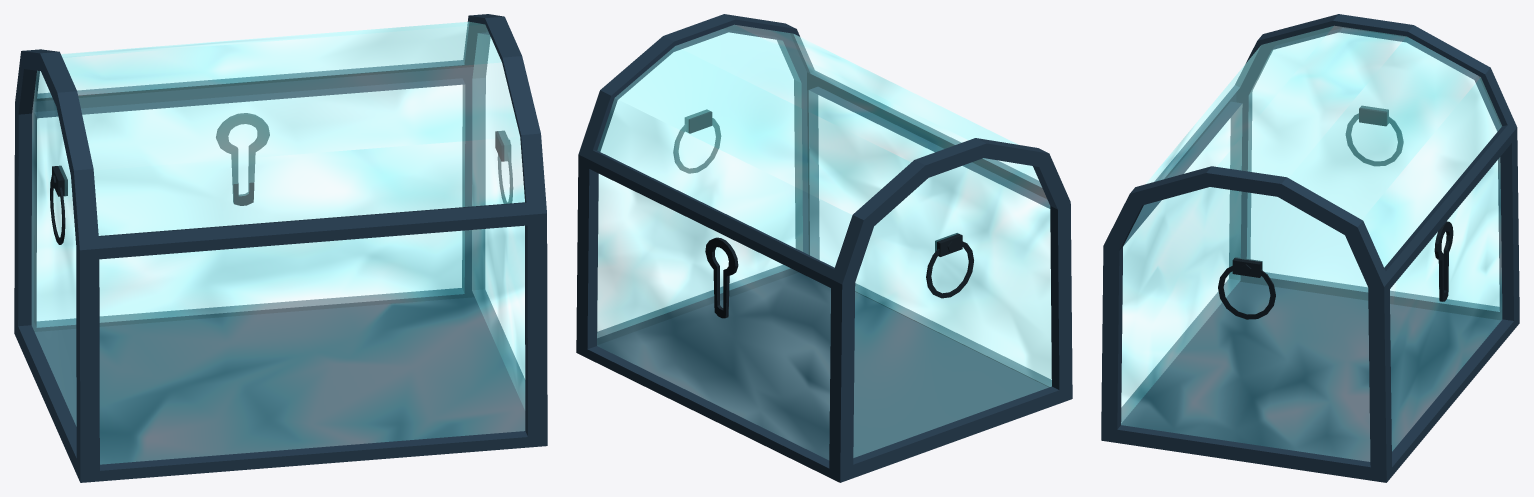
The model's file is Chest.fbx.
3 views of the same model, side by side, from view 1: azimuth 30°, elevation 25°; view 2: azimuth 150°, elevation 25°; view 3: azimuth 270°, elevation 25° (orthographic). The views are drawn at different scales.
Visible parts, largest first — view 1: Chest.003; view 2: Chest.003; view 3: Chest.003.
Boxes of the visible parts, x1,y1,x2,y2 form: Chest.003: (14, 14, 547, 482); Chest.003: (576, 14, 1072, 482); Chest.003: (1101, 14, 1519, 482).
Size of the model in its own units: 246 by 161 by 215.
